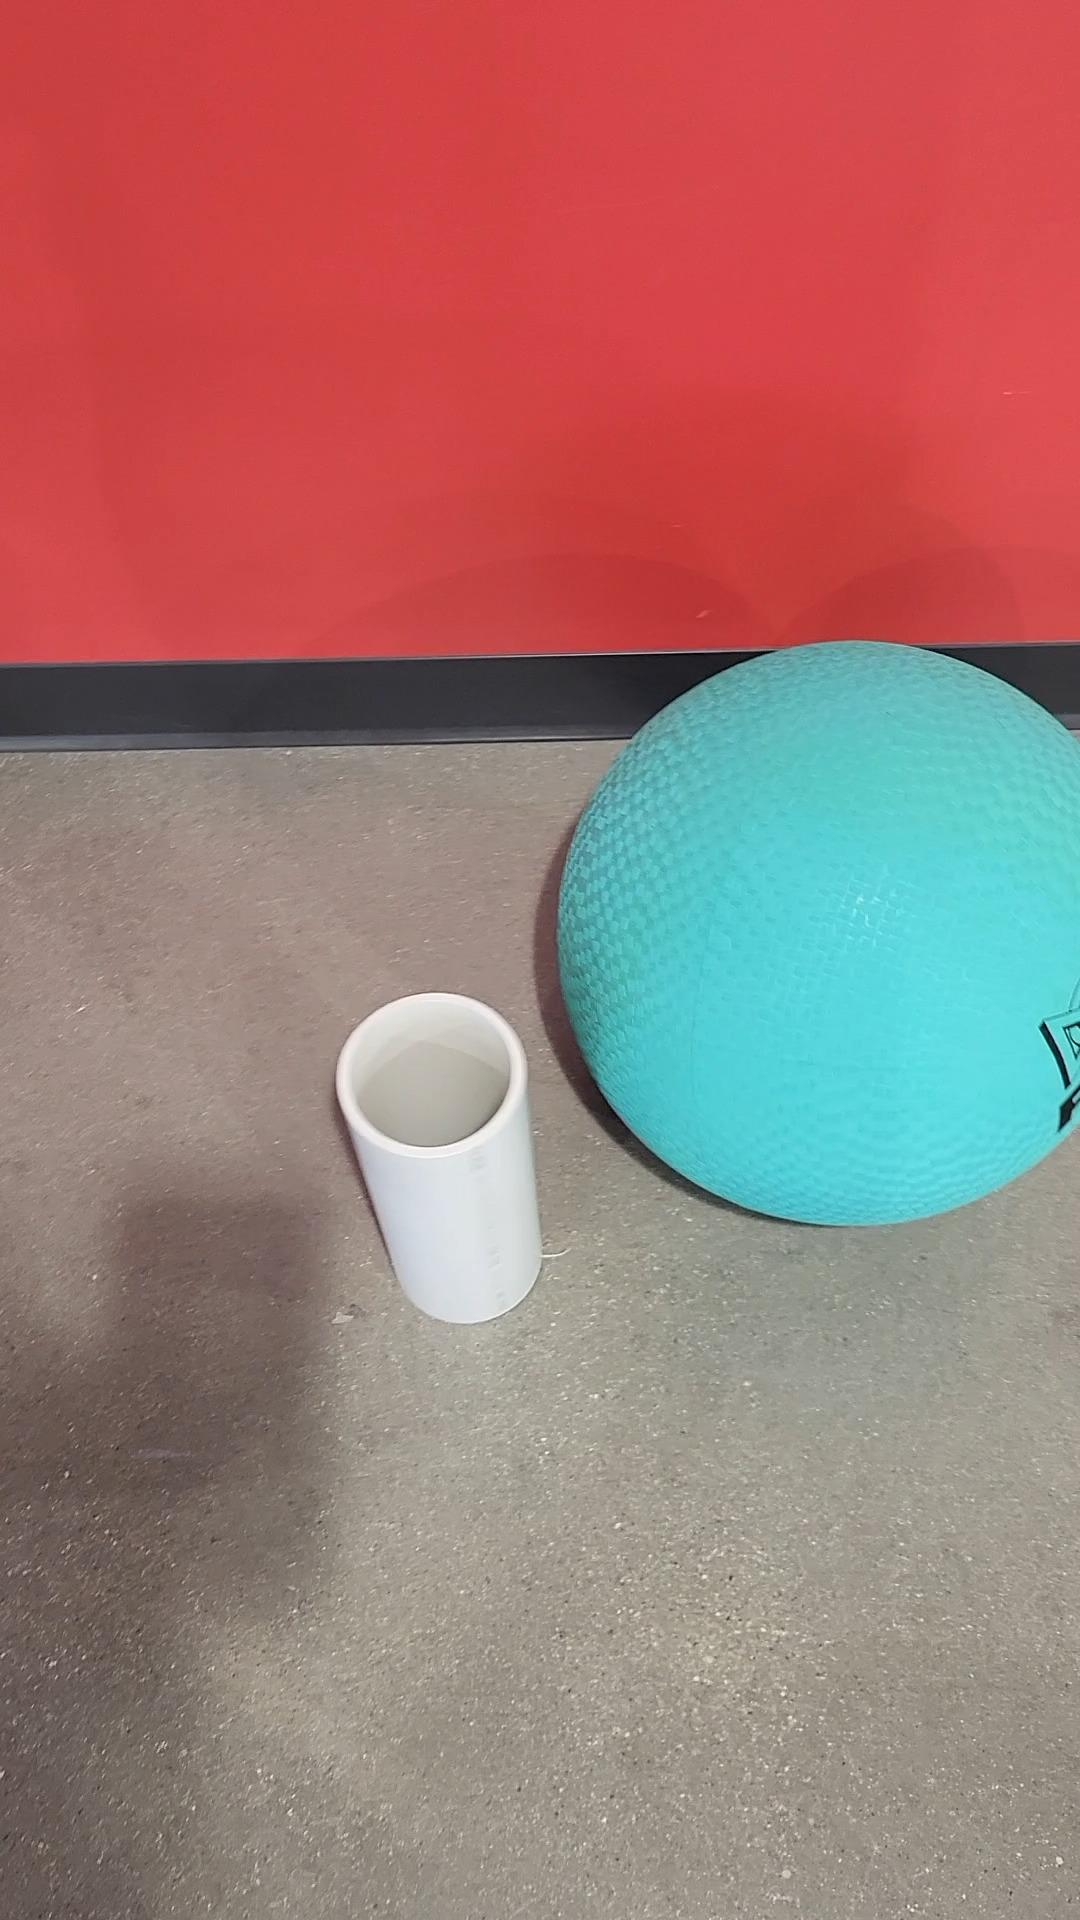algae: (553, 633, 1079, 1233)
coral: (332, 989, 549, 1327)
